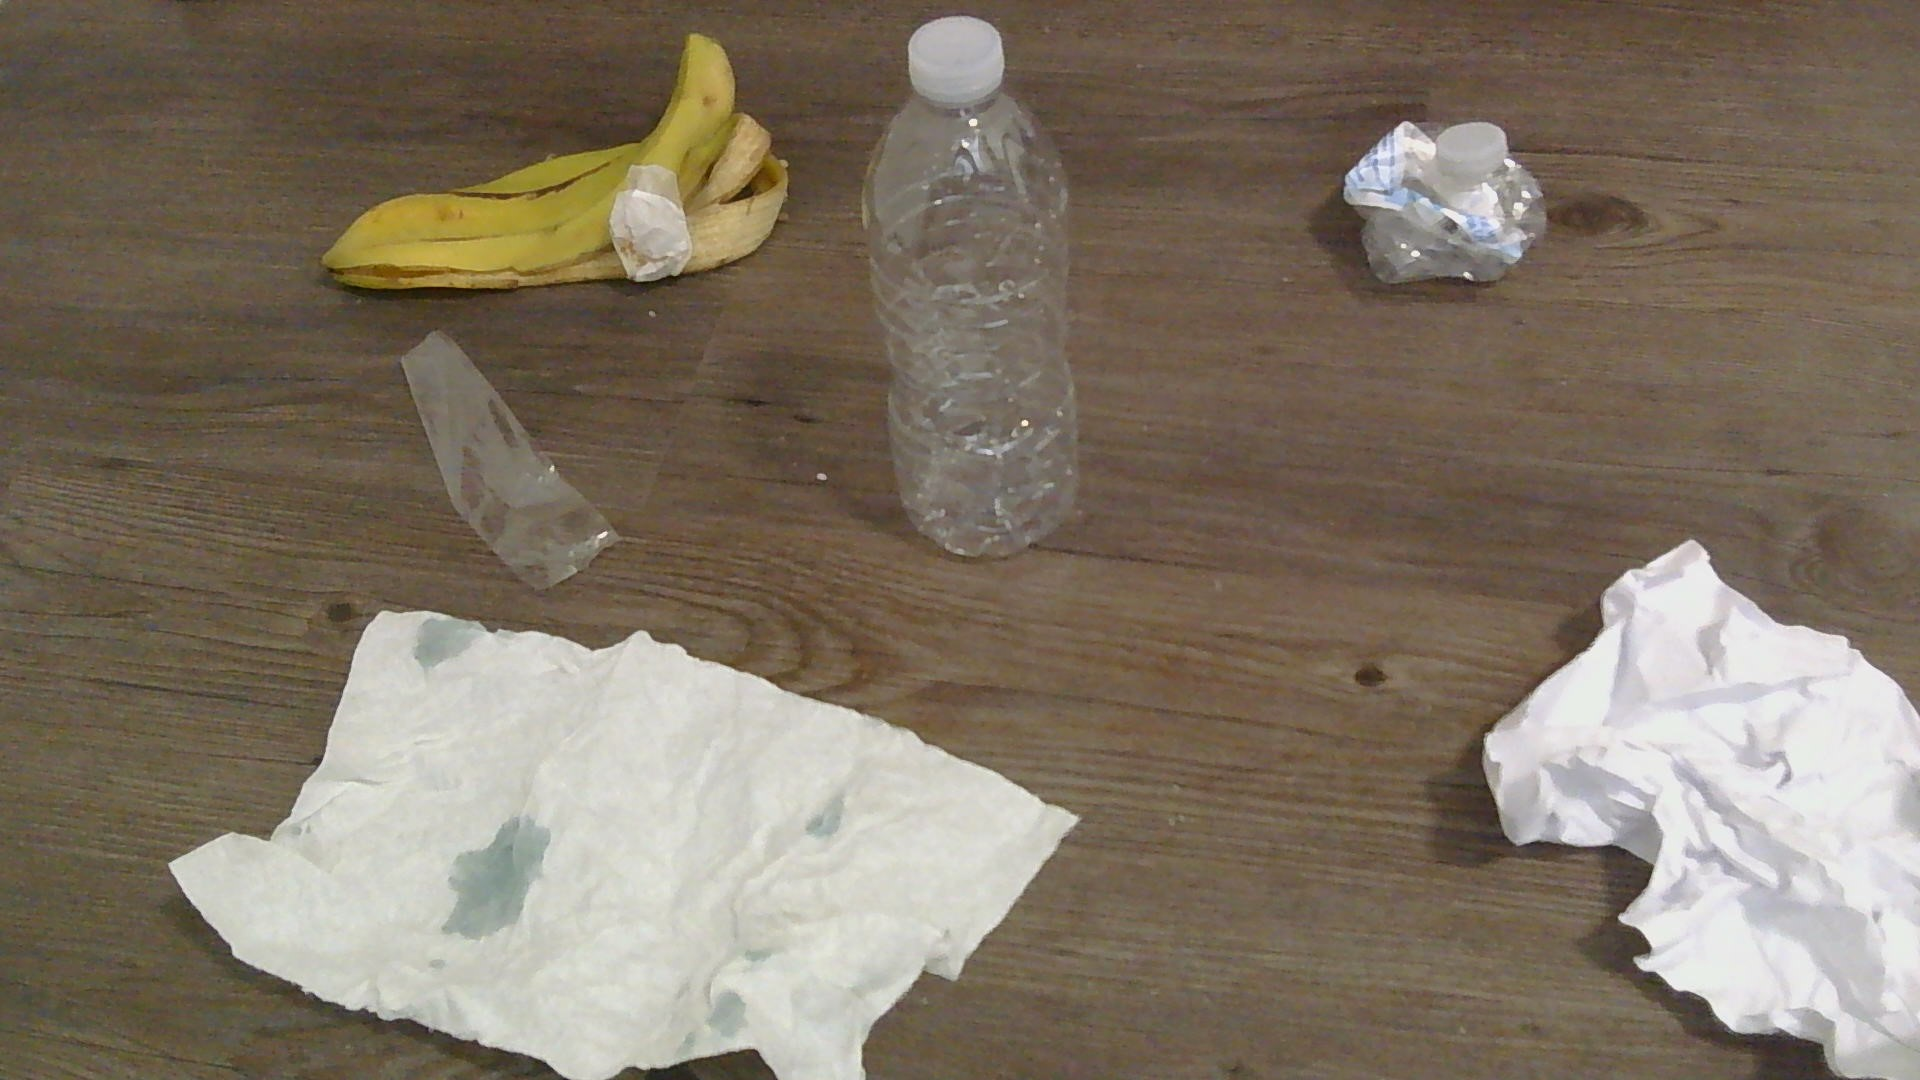banana peel: (318, 30, 795, 291)
bottle: (858, 7, 1083, 555)
crushed bottle: (1338, 113, 1551, 291)
napkin: (167, 613, 1079, 1077)
paper: (1482, 534, 1917, 1080)
paperweight: (1338, 113, 1551, 280)
plastic piece: (390, 330, 615, 591)
